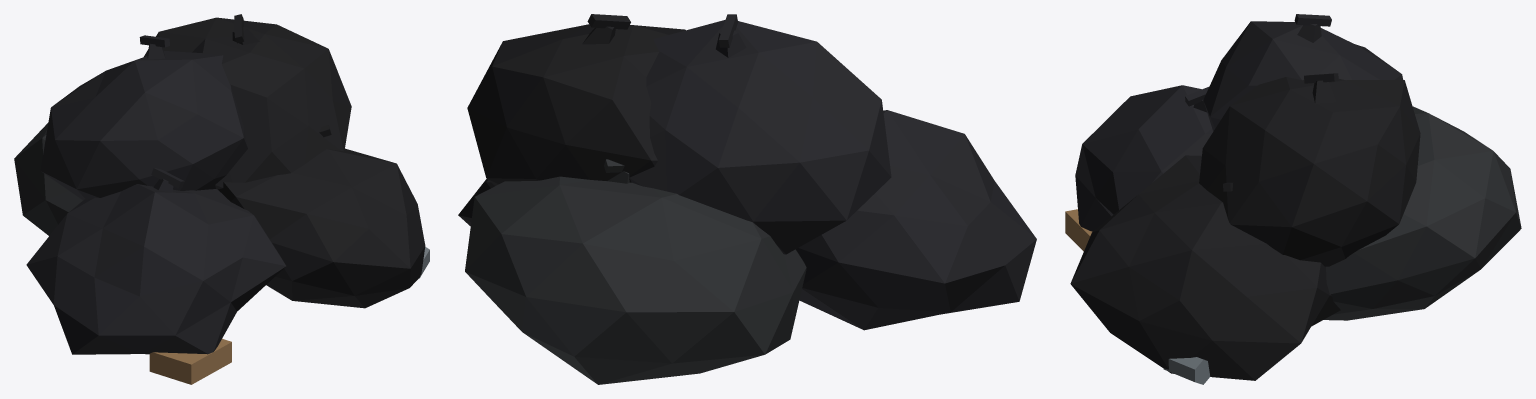
Rendered from trash_bags.glb.
3 views of the same model, side by side, from view 1: azimuth 30°, elevation 25°; view 2: azimuth 150°, elevation 25°; view 3: azimuth 270°, elevation 25° (orthographic). The views are drawn at different scales.
Parts seen in each view (by area): view 1: trash_bags; view 2: trash_bags; view 3: trash_bags.
Part boxes in pixels (x1,y1,x2,y2): trash_bags: (14,14,429,384); trash_bags: (458,14,1036,384); trash_bags: (1065,14,1521,384).
Size of what is drawn, in the model's own units: 1.16 by 0.7445 by 1.14.
Materials: 2 (2 with a texture image).
